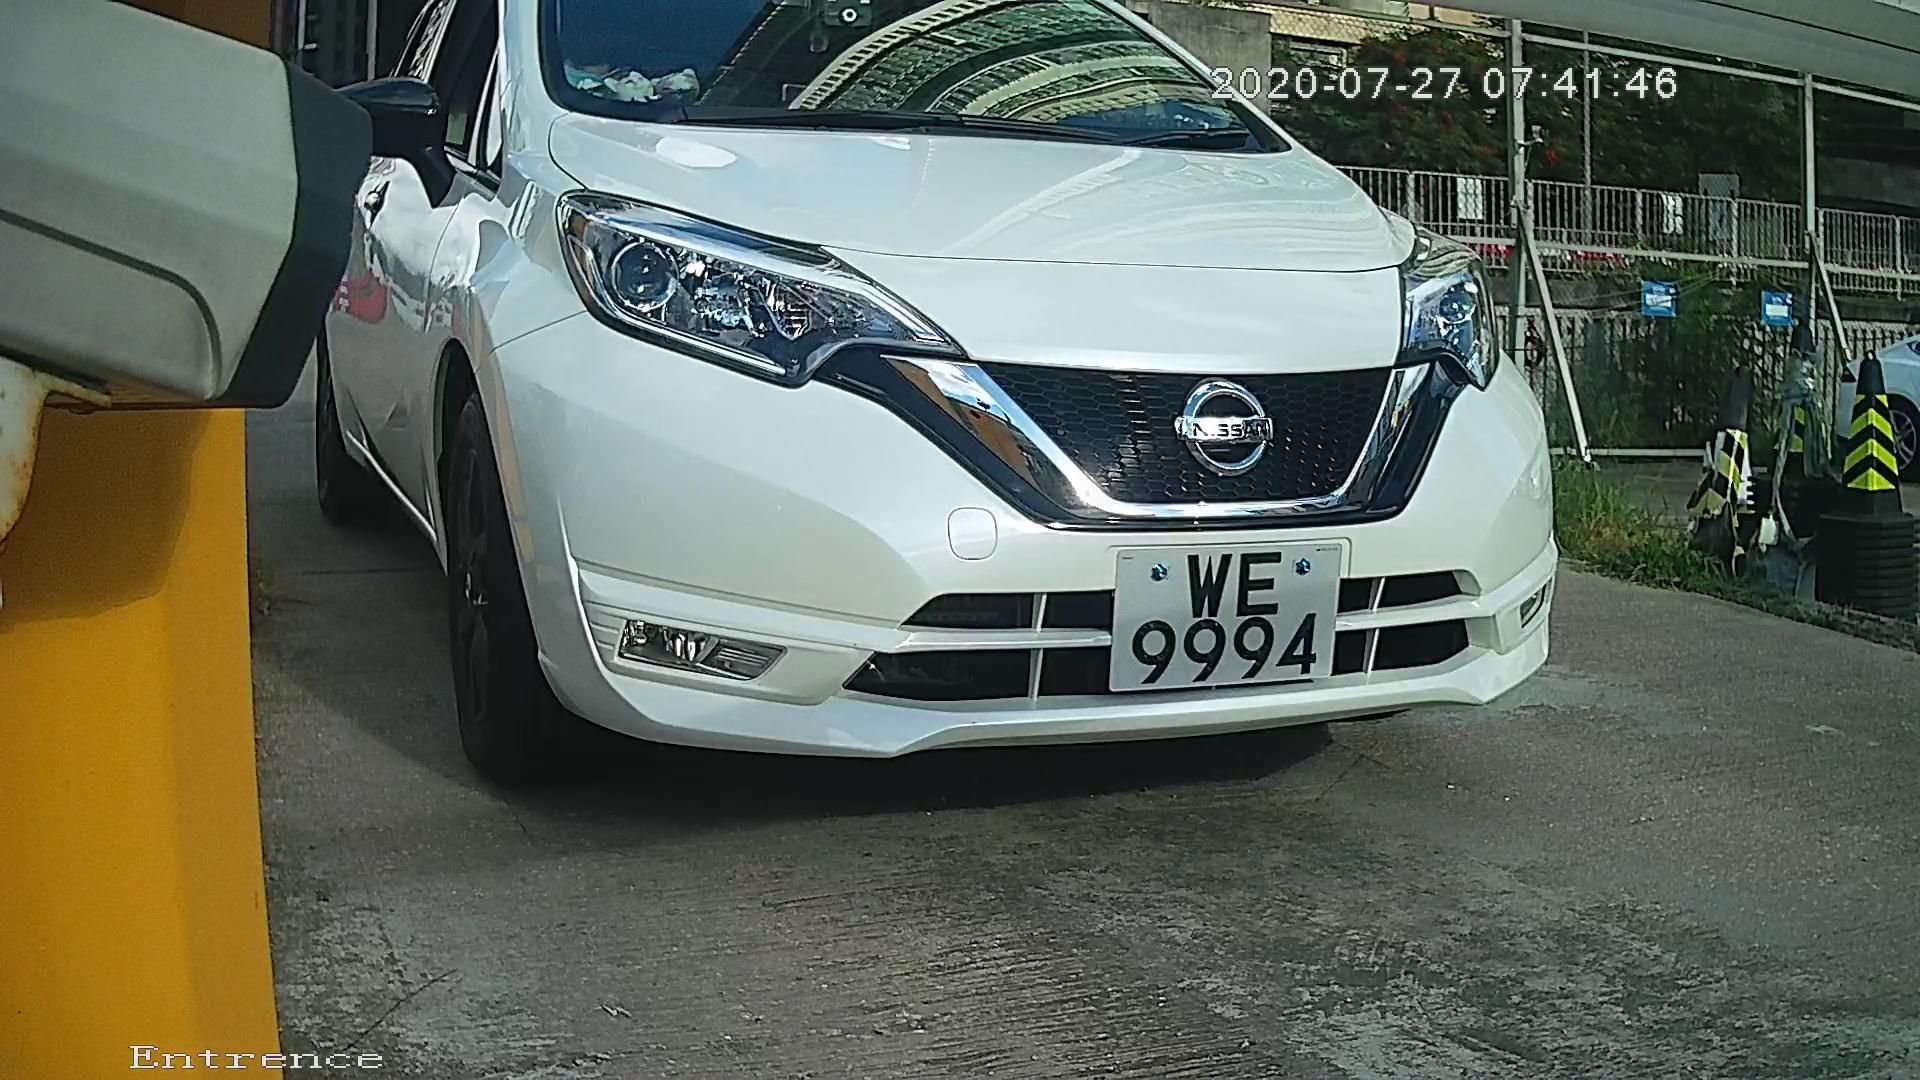Car: (146, 49, 1646, 801)
License Plate: (1081, 531, 1363, 704)
